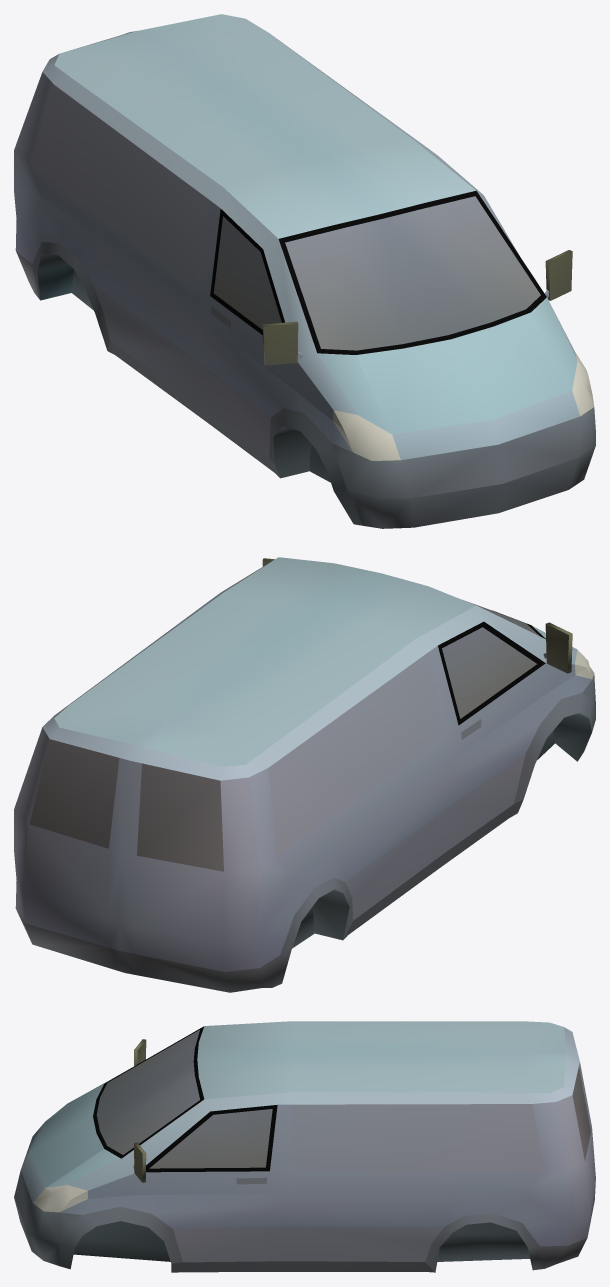
Rendered from Truck.glb.
The picture shows the model from 3 angles, top to bottom: view 1: azimuth 30°, elevation 25°; view 2: azimuth 150°, elevation 25°; view 3: azimuth 270°, elevation 25°; orthographic projection. The views are drawn at different scales.
Parts seen in each view (by area): view 1: Truck; view 2: Truck; view 3: Truck.
Boxes of the visible parts, x1,y1,x2,y2 form: Truck: (14,14,595,528); Truck: (14,557,595,992); Truck: (14,1021,595,1272).
Size of the model in its own units: 0.3127 by 0.2238 by 0.6716.
